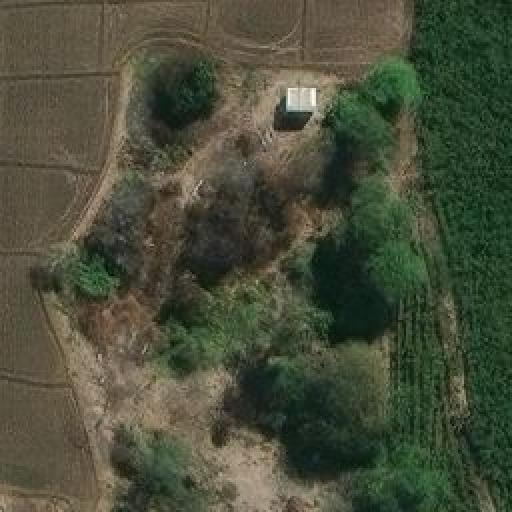manzanas: (273, 83, 323, 117)
